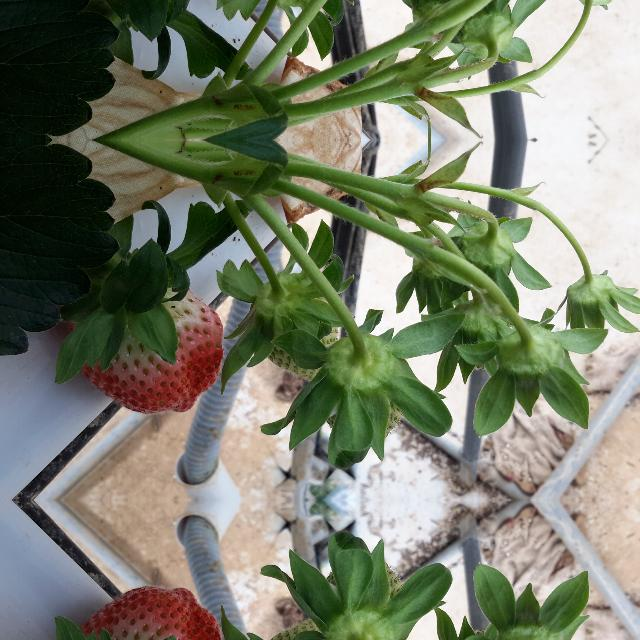Health_100: (67, 288, 223, 414), (67, 586, 223, 640)
Health_25: (250, 276, 340, 386), (250, 614, 340, 640)
